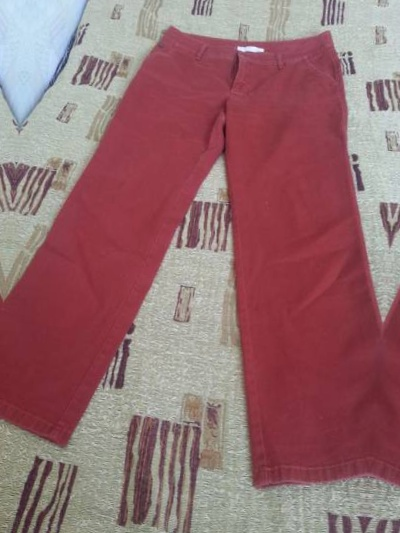Pants: (0, 11, 400, 512), (366, 45, 400, 533), (0, 0, 23, 477)
